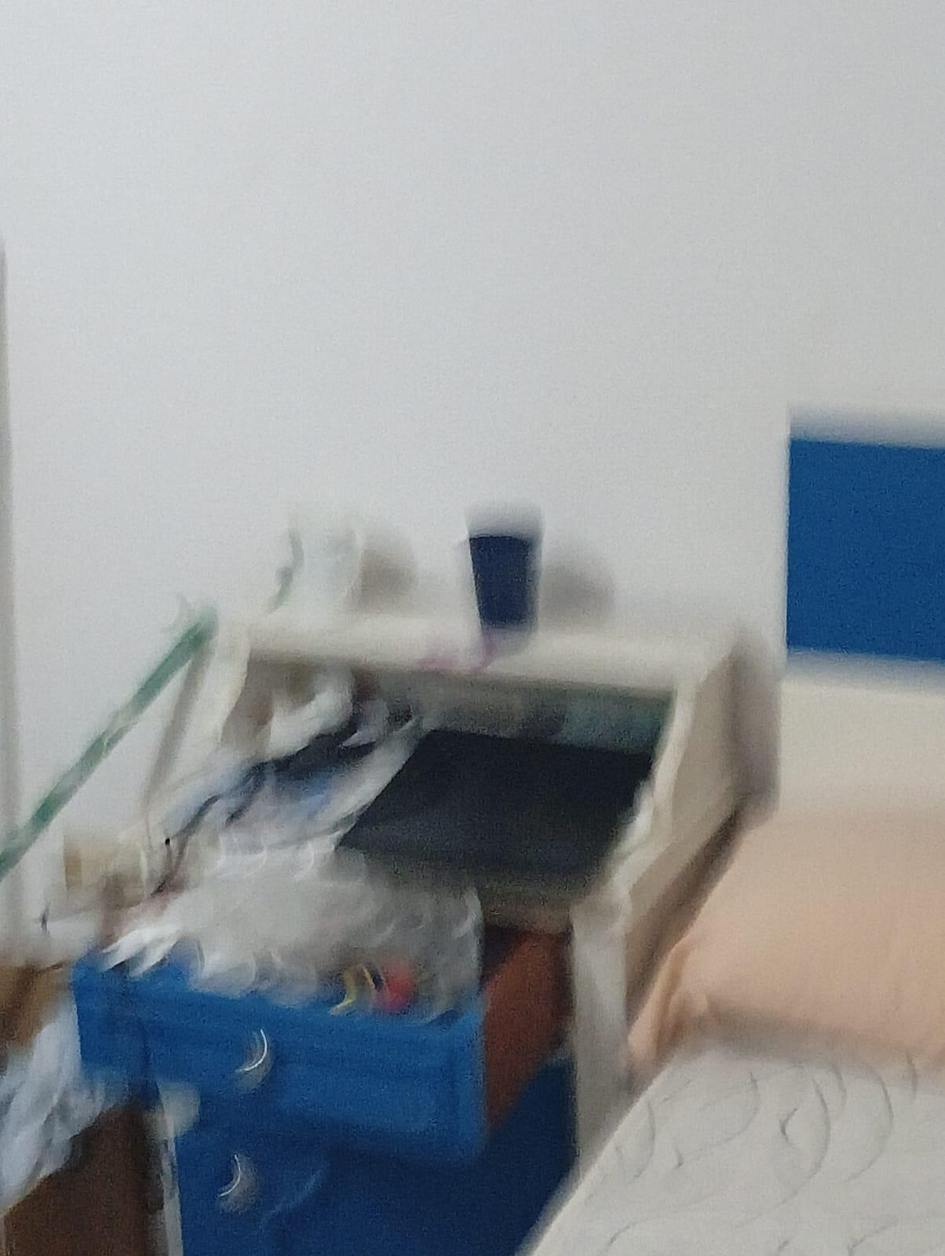cup: (285, 516, 363, 623), (468, 531, 536, 630)
